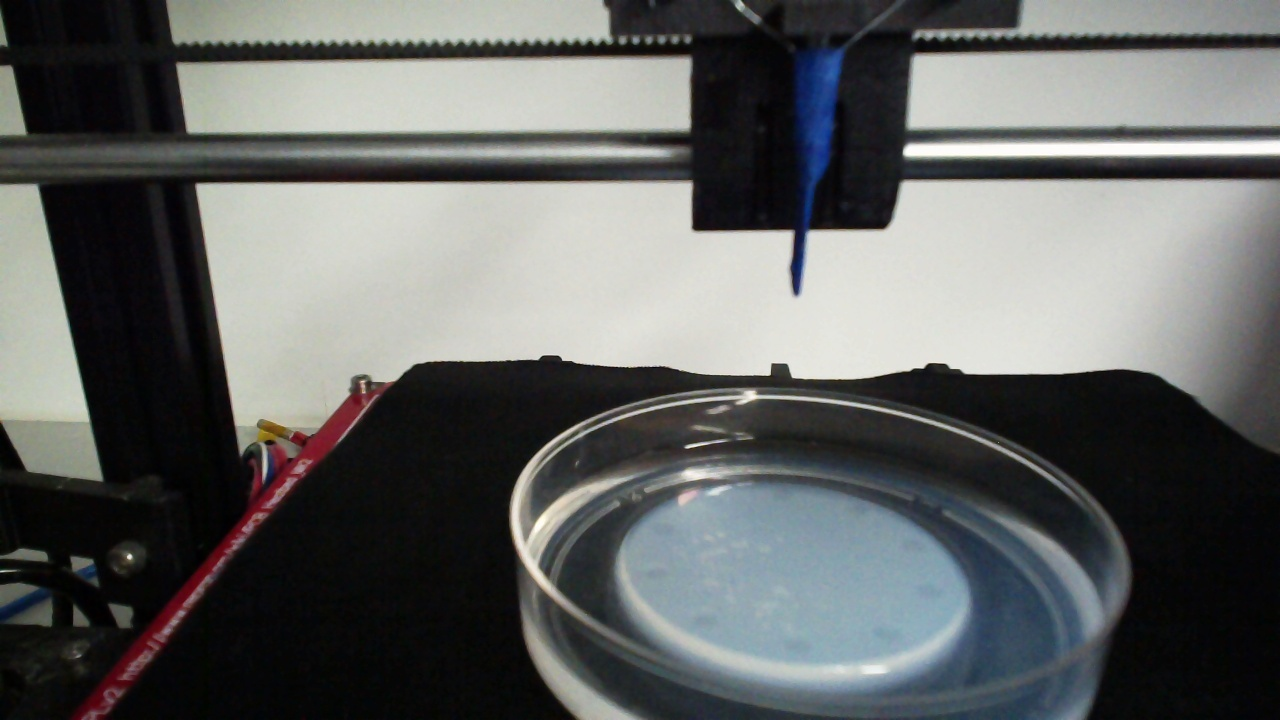groove: (871, 626, 904, 643), (916, 583, 945, 599), (842, 503, 872, 518), (783, 637, 813, 652), (690, 615, 720, 629), (650, 522, 678, 536), (902, 539, 928, 553), (770, 487, 799, 499), (645, 566, 669, 580)
needle: (790, 50, 844, 298)
